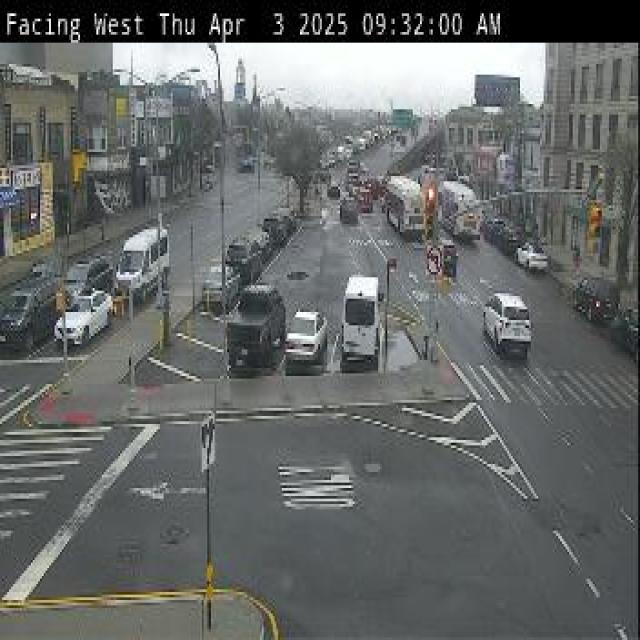open parking: (542, 262, 583, 292)
parkedCars: (576, 282, 640, 354), (488, 220, 559, 272)
